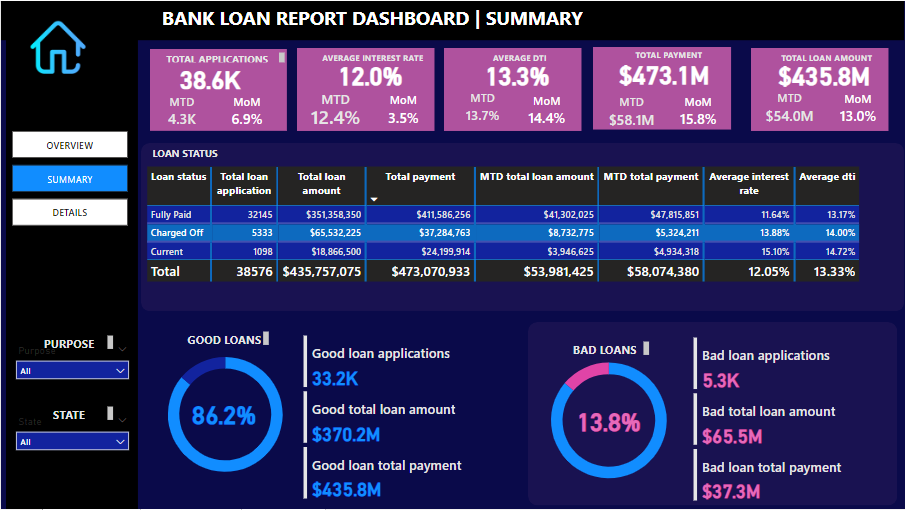

Layout of this report page (visuals, bound fields, positions):
{"tool":"powerbi","page":{"name":"SUMMARY","canvas":[1280,720],"ordinal":1},"visuals":[{"type":"shape","box":[419.7,66.6,194.9,117.6],"z":0,"group":"g4"},{"type":"shape","box":[628,66.6,194.9,117.6],"z":0,"group":"g3"},{"type":"shape","box":[1063.5,66.6,194.9,117.6],"z":0,"group":"g1"},{"type":"shape","box":[211.3,68.3,194.2,116.2],"z":0,"group":"g8"},{"type":"shape","box":[208.3,453.3,523.3,260],"z":0},{"type":"slicer","fields":{"Values":["bank_loan_data.purpose"]},"box":[11.4,481.5,180,70],"z":0,"group":"g6"},{"type":"slicer","fields":{"Values":["bank_loan_data.address_state"]},"box":[11.4,582.9,180,70],"z":0,"group":"g7"},{"type":"shape","box":[838.6,65.2,195.7,117.1],"z":1000,"group":"g5"},{"type":"card","fields":{"Values":["bank_loan_data.average interest rate"]},"box":[447.9,78.2,150.6,50.2],"z":1000,"group":"g4"},{"type":"card","fields":{"Values":["bank_loan_data.Average dti"]},"box":[656.2,78.2,150.6,50.2],"z":1000,"group":"g3"},{"type":"card","fields":{"Values":["bank_loan_data.total funded amount"]},"box":[1091.7,78.2,150.6,50.2],"z":1000,"group":"g1"},{"type":"card","fields":{"Values":["bank_loan_data.Total Loan Application"]},"box":[231.4,89.4,130.4,41.1],"z":1000,"group":"g8"},{"type":"shape","box":[198.3,201.7,1081.7,238.3],"z":1000,"group":"g2"},{"type":"donutChart","title":"Good and Bad Loans ","fields":{"Category":["bank_loan_data.Loan status group"],"Y":["bank_loan_data.Total Loan Application"]},"box":[210.6,462.8,213.3,245],"z":1000},{"type":"textbox","box":[37.1,468.6,127.1,30],"z":1000,"group":"g6"},{"type":"textbox","box":[37.1,570,127.1,30],"z":1000,"group":"g7"},{"type":"textbox","box":[419.7,66.6,215,28.6],"z":2000,"group":"g4"},{"type":"textbox","box":[628,66.6,215,28.6],"z":2000,"group":"g3"},{"type":"group","id":"g1","title":"Group 1","box":[1063,66.6,216.9,117.6],"z":2000,"group":"g10"},{"type":"textbox","box":[1063.5,66.6,215,28.6],"z":2000,"group":"g1"},{"type":"textbox","box":[214.4,68,192.8,24.1],"z":2000,"group":"g8"},{"type":"card","fields":{"Values":["bank_loan_data.total amount received"]},"box":[864.6,77.6,150.2,49.6],"z":2000,"group":"g5"},{"type":"group","id":"g2","title":"Group 6","box":[198.3,201.7,1081.7,238.3],"z":2000},{"type":"shape","box":[7.1,0,187.1,720],"z":3000},{"type":"group","id":"g3","title":"Group 1","box":[627.5,66.6,215.4,117.6],"z":3000,"group":"g12"},{"type":"card","title":"MTD ","fields":{"Values":["bank_loan_data.MTD interest rate"]},"box":[419.2,126.6,109.4,53.8],"z":3000,"group":"g4"},{"type":"card","title":"MTD ","fields":{"Values":["bank_loan_data.MTD dti"]},"box":[627.5,126.6,109.4,53.8],"z":3000,"group":"g3"},{"type":"card","title":"MTD ","fields":{"Values":["bank_loan_data.MTD total funded amount"]},"box":[1063,126.6,109.4,53.8],"z":3000,"group":"g1"},{"type":"card","title":"MTD ","fields":{"Values":["bank_loan_data.MTD Total Loan Application"]},"box":[211.2,132.4,90.7,52.4],"z":3000,"group":"g8"},{"type":"cardVisual","fields":{"Data":["bank_loan_data.Good Loan Applications","bank_loan_data.Good loan funded amount","bank_loan_data.Good loan amount received"]},"box":[423.9,469.4,293.3,243.3],"z":4000},{"type":"shape","box":[0,0,1280,55.6],"z":5000},{"type":"textbox","box":[839.1,62.1,215.4,28.3],"z":5000,"group":"g5"},{"type":"group","id":"g4","title":"Group 1","box":[419.2,66.6,215.4,116.2],"z":5000,"group":"g9"},{"type":"card","fields":{"Values":["bank_loan_data.Good loan application %"]},"box":[255,558.3,121.7,51.7],"z":6000},{"type":"card","title":"MTD ","fields":{"Values":["bank_loan_data.MTD amount received"]},"box":[838.6,131.8,109.4,53.8],"z":7000,"group":"g5"},{"type":"shape","box":[746.7,455,523.5,259.9],"z":7000},{"type":"textbox","box":[209.7,0,632.8,55.6],"z":8000},{"type":"textbox","box":[210,201.7,225,30],"z":9000},{"type":"tableEx","fields":{"Values":["bank_loan_data.loan_status","bank_loan_data.Total Loan Application","bank_loan_data.total funded amount","bank_loan_data.total amount received","bank_loan_data.MTD total funded amount","bank_loan_data.MTD amount received","bank_loan_data.average interest rate","bank_loan_data.Average dti"]},"box":[201.4,230.3,1068.6,204.3],"z":9000,"group":"g2"},{"type":"group","id":"g5","title":"Group 2","box":[838.6,62.1,216,123.4],"z":10000,"group":"g11"},{"type":"cardVisual","fields":{"Data":["bank_loan_data.Bad Loan Applications","bank_loan_data.Bad loan funded amount","bank_loan_data.Bad loan amount received"]},"box":[976.5,472.4,293.3,243.3],"z":10000},{"type":"textbox","box":[256.7,463.3,128.3,30],"z":11000},{"type":"card","fields":{"Values":["bank_loan_data.Bad loan application %"]},"box":[800,570,123.3,50],"z":12000},{"type":"textbox","box":[796.7,478.3,126.7,30],"z":13000},{"type":"donutChart","title":"Good and Bad Loans ","fields":{"Category":["bank_loan_data.Loan status group"],"Y":["bank_loan_data.Total Loan Application"]},"box":[753.3,471.7,215,245],"z":14000},{"type":"card","title":"MoM","fields":{"Values":["bank_loan_data.MoM total funded amount"]},"box":[1172.1,127.5,85,52.4],"z":15000,"group":"g10"},{"type":"group","id":"g6","title":"Group 3","box":[11.4,468.6,180,82.9],"z":15000},{"type":"card","title":"MoM","fields":{"Values":["bank_loan_data.MoM amount received"]},"box":[940,130.9,94.3,52.9],"z":16000,"group":"g11"},{"type":"group","id":"g7","title":"Group 3","box":[11.4,570,180,82.9],"z":16000},{"type":"group","id":"g8","title":"Group 3","box":[211.2,68,195.6,116.2],"z":17000},{"type":"card","title":"MoM","fields":{"Values":["bank_loan_data.MoM dti"]},"box":[725.1,130.9,95.7,52.9],"z":17000,"group":"g12"},{"type":"group","id":"g9","title":"Group 8","box":[419.2,66.6,215.4,117.6],"z":18000},{"type":"group","id":"g10","title":"Group 9","box":[1063,66.6,216.9,117.6],"z":19000},{"type":"group","id":"g11","title":"Group 10","box":[838.6,62.1,216,123.4],"z":20000},{"type":"group","id":"g12","title":"Group 11","box":[627.5,66.6,215.4,117.6],"z":21000},{"type":"card","title":"MoM","fields":{"Values":["bank_loan_data.MoM loan Application"]},"box":[306.1,131.8,85,52.4],"z":22000},{"type":"pageNavigator","box":[15.6,184.3,164.4,136.1],"z":23000},{"type":"image","box":[36.9,12.8,87.9,106.3],"z":24000},{"type":"card","title":"MoM","fields":{"Values":["bank_loan_data.MoM interest rate"]},"box":[521.6,129,97.8,55.3],"z":24000,"group":"g9"}]}

Visuals, with their boxes in screenshot pixels (x1, y1, x2, y2), scaled from the page's 1280x720 canvas onto the 905x510 screenshot:
shape: 297 47 435 130
shape: 444 47 582 130
shape: 752 47 890 130
shape: 149 48 287 131
shape: 147 321 517 505
slicer - bank_loan_data.purpose: 8 341 135 391
slicer - bank_loan_data.address_state: 8 413 135 462
shape: 593 46 731 129
card - bank_loan_data.average interest rate: 317 55 423 91
card - bank_loan_data.Average dti: 464 55 570 91
card - bank_loan_data.total funded amount: 772 55 878 91
card - bank_loan_data.Total Loan Application: 164 63 256 92
shape: 140 143 904 312
"Good and Bad Loans " donutChart: 149 328 300 501
textbox: 26 332 116 353
textbox: 26 404 116 425
textbox: 297 47 449 67
textbox: 444 47 596 67
"Group 1" group: 752 47 904 130
textbox: 752 47 904 67
textbox: 152 48 288 65
card - bank_loan_data.total amount received: 611 55 717 90
"Group 6" group: 140 143 904 312
shape: 5 0 137 509
"Group 1" group: 444 47 596 130
"MTD " card: 296 90 374 128
"MTD " card: 444 90 521 128
"MTD " card: 752 90 829 128
"MTD " card: 149 94 213 131
cardVisual - bank_loan_data.Good Loan Applications x bank_loan_data.Good loan funded amount: 300 332 507 505
shape: 0 0 904 39
textbox: 593 44 746 64
"Group 1" group: 296 47 449 129
card - bank_loan_data.Good loan application %: 180 395 266 432
"MTD " card: 593 93 670 131
shape: 528 322 898 506
textbox: 148 0 596 39
textbox: 148 143 308 164
tableEx - bank_loan_data.loan_status x bank_loan_data.Total Loan Application: 142 163 898 308
"Group 2" group: 593 44 746 131
cardVisual - bank_loan_data.Bad Loan Applications x bank_loan_data.Bad loan funded amount: 690 335 898 507
textbox: 181 328 272 349
card - bank_loan_data.Bad loan application %: 566 404 653 439
textbox: 563 339 653 360
"Good and Bad Loans " donutChart: 533 334 685 508
"MoM" card: 829 90 889 127
"Group 3" group: 8 332 135 391
"MoM" card: 665 93 731 130
"Group 3" group: 8 404 135 462
"Group 3" group: 149 48 288 130
"MoM" card: 513 93 580 130
"Group 8" group: 296 47 449 130
"Group 9" group: 752 47 904 130
"Group 10" group: 593 44 746 131
"Group 11" group: 444 47 596 130
"MoM" card: 216 93 277 130
pageNavigator: 11 131 127 227
image: 26 9 88 84
"MoM" card: 369 91 438 131
